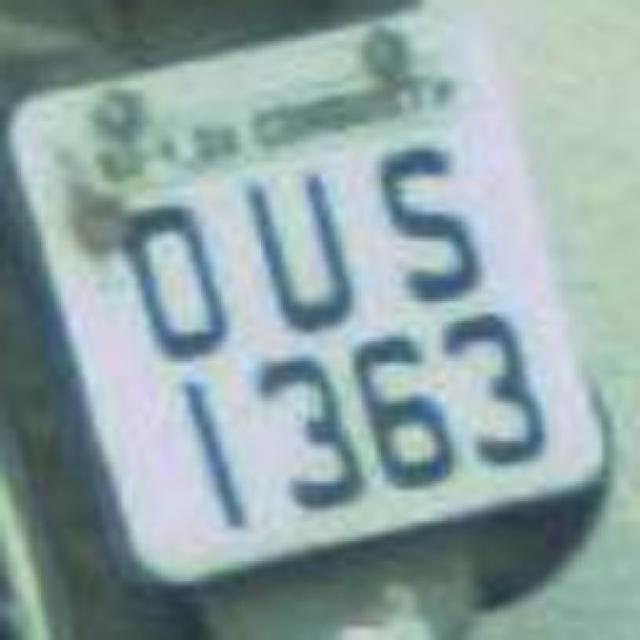1: (169, 356, 256, 549)
3: (404, 296, 576, 484), (232, 336, 380, 529)
O: (112, 184, 236, 364)
U: (232, 156, 372, 344)
